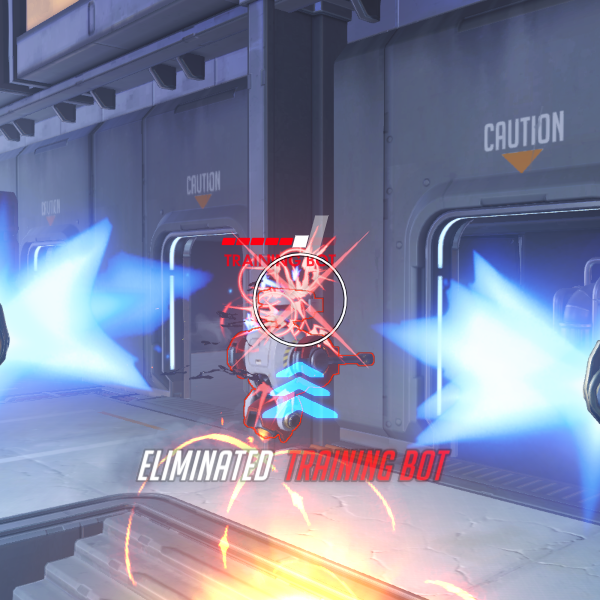hpbar: (221, 237, 337, 246)
